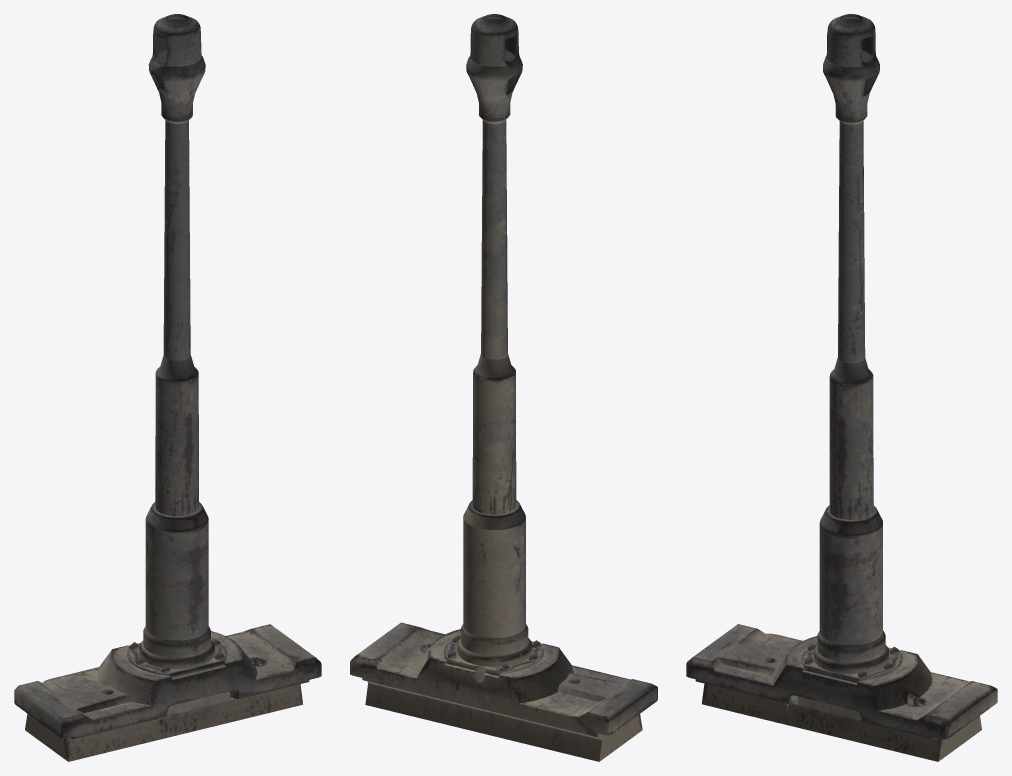
File: Gun_05.glb
3 views of the same model, side by side, from view 1: azimuth 30°, elevation 25°; view 2: azimuth 150°, elevation 25°; view 3: azimuth 330°, elevation 25° (orthographic).
Visible parts, largest first — view 1: set_0_group_0; view 2: set_0_group_0; view 3: set_0_group_0.
Boxes of the visible parts, <box> form: set_0_group_0: <box>14,14,321,761</box>; set_0_group_0: <box>350,14,657,761</box>; set_0_group_0: <box>686,14,997,761</box>.
Size of the model in its own units: 1.59 by 4.08 by 0.5607.
1 material, 1 textured.
